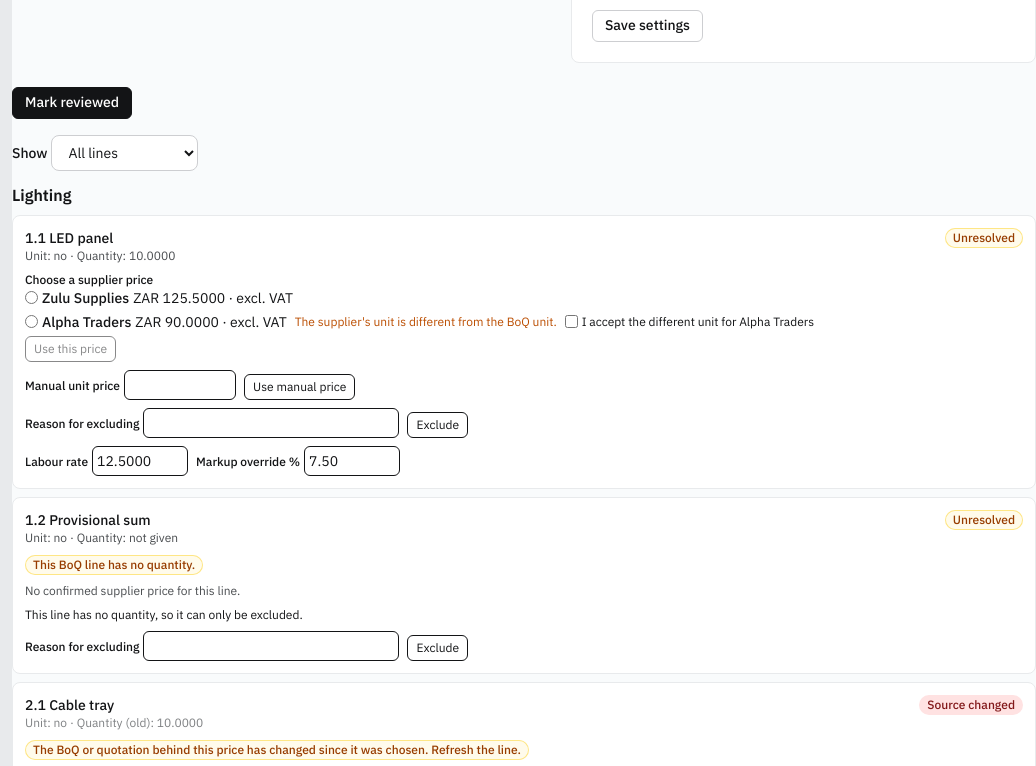
Test: line controls › sends nothing for the invalid manual price 0
(page scrolled)
Expected: the text "1.1 LED panel" is shown, 25,228 -> 113,248
Type "0" into the field labelled "Manual unit price" at (180, 384), box 124,370 -> 236,400
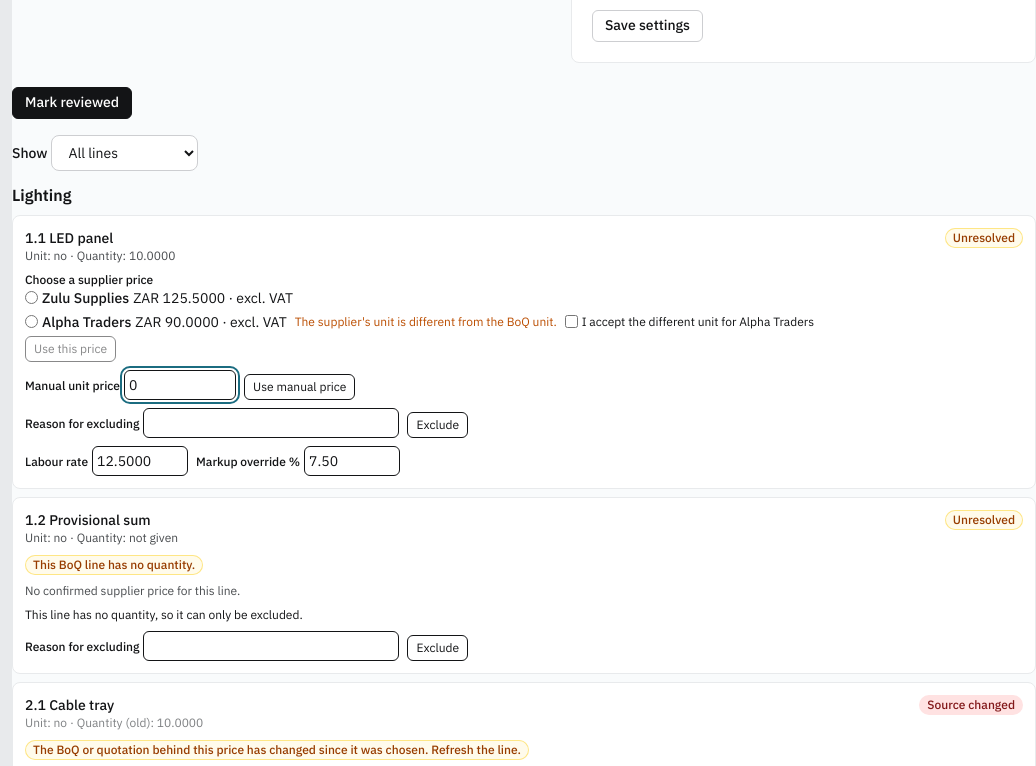
Click the button "Use manual price" at (300, 386), box 244,374 -> 355,400
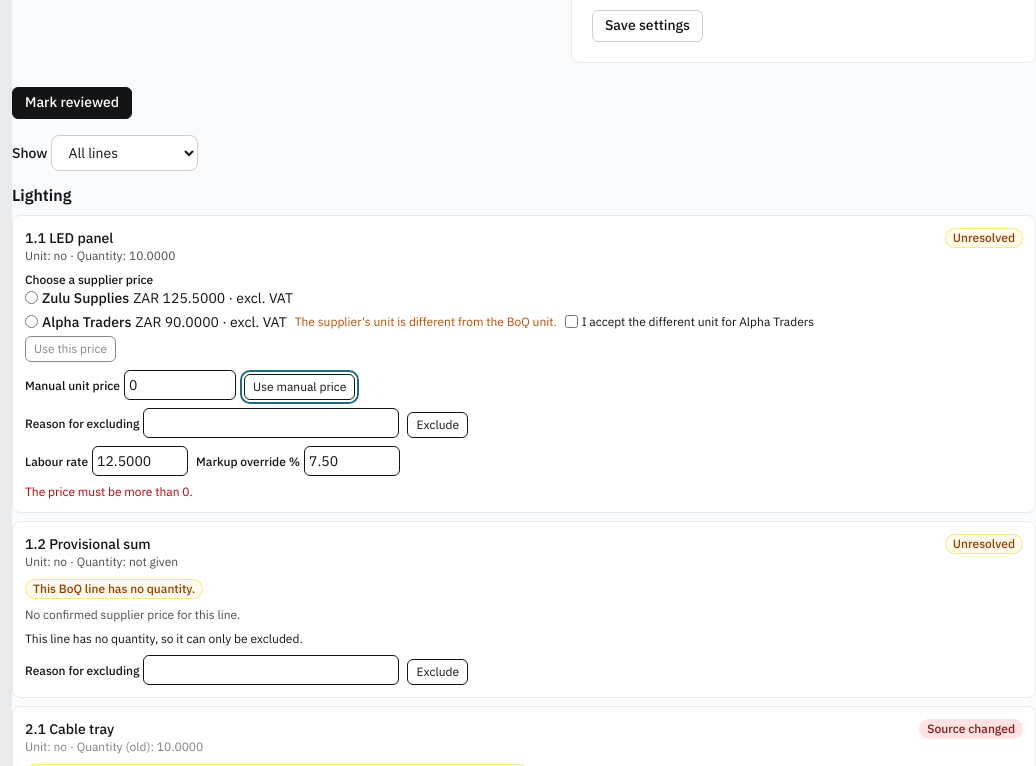
Now the message "The price must be more than 0." is shown, box 25,484 -> 193,498
